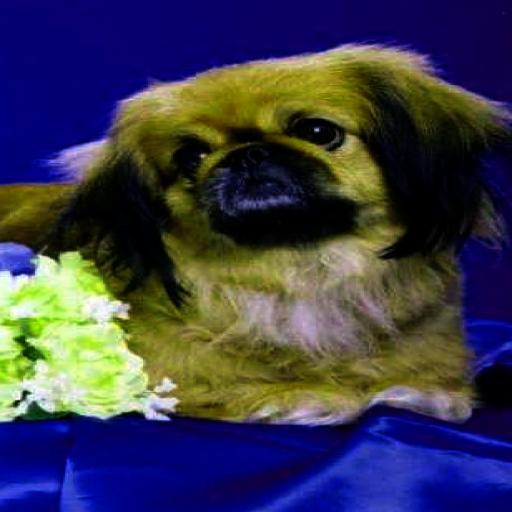dog_face: (73, 44, 512, 283)
